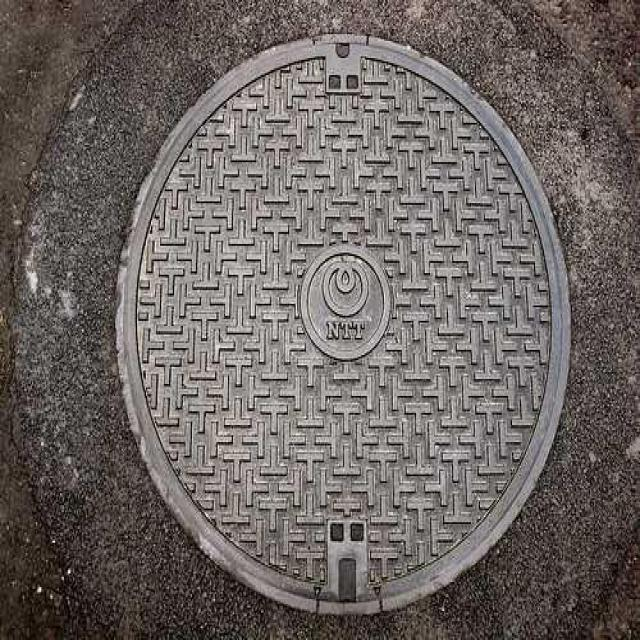manhole: (118, 37, 570, 613)
